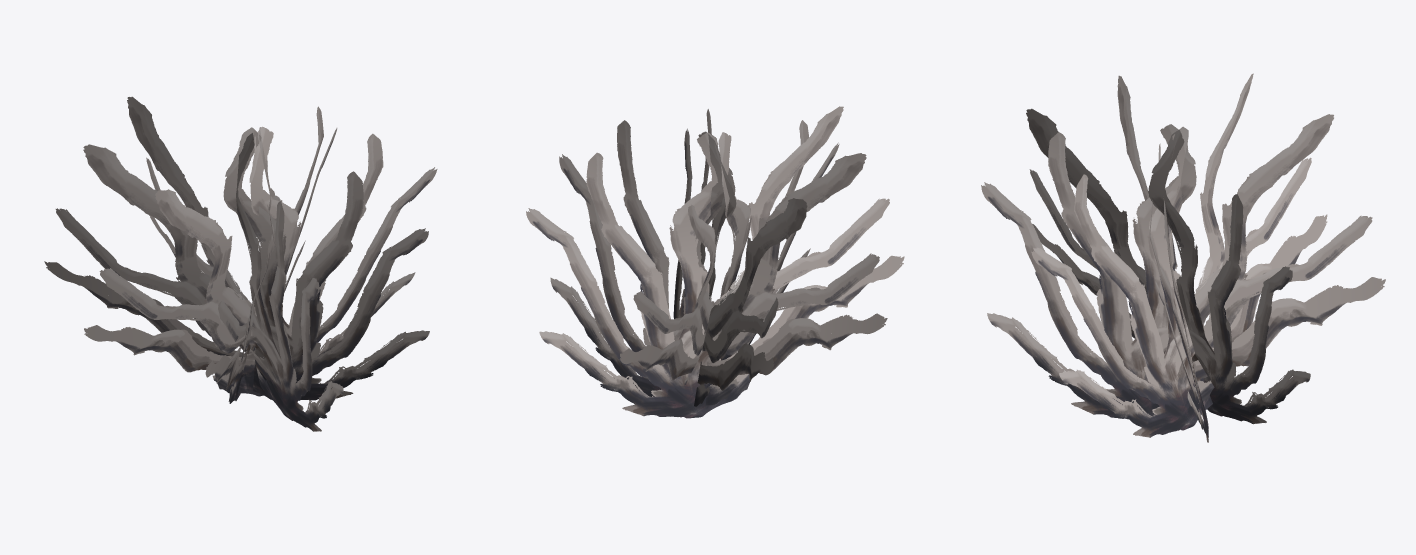
File: coral3.fbx
3 renders of one model, left to right at view 1: azimuth 30°, elevation 25°; view 2: azimuth 150°, elevation 25°; view 3: azimuth 270°, elevation 25°, orthographic. The views are drawn at different scales.
Parts seen in each view (by area): view 1: coral3.002; view 2: coral3.002; view 3: coral3.002.
Part boxes in pixels (<box>): coral3.002: <box>44,96,437,431</box>; coral3.002: <box>526,106,904,418</box>; coral3.002: <box>981,73,1385,442</box>.
Size of the model in its own units: 75.73 by 69.6 by 75.56.
